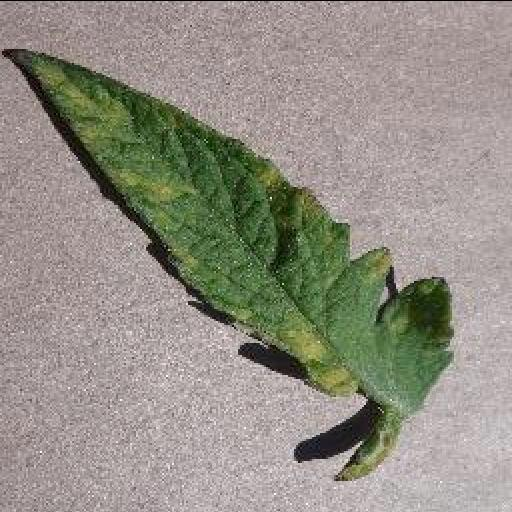disease_tomato: (0, 48, 452, 418)
